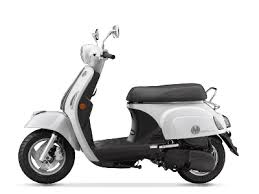motorcycle: (12, 22, 241, 191)
